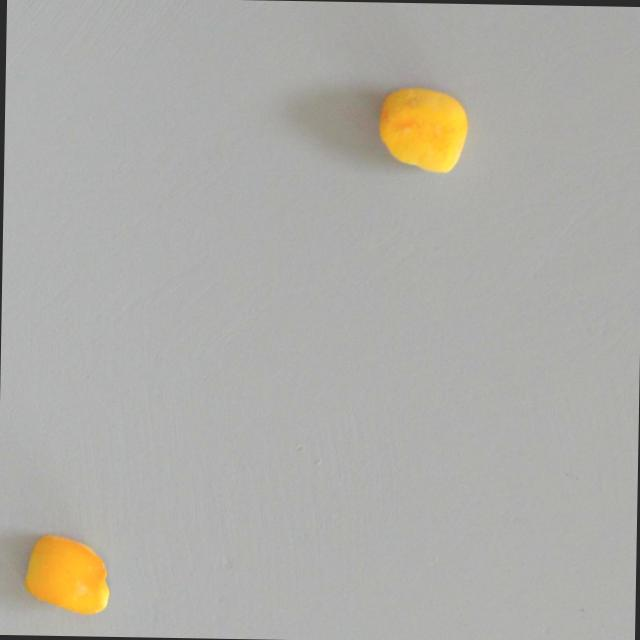no_canjicado: (376, 84, 467, 173), (22, 534, 108, 614)
